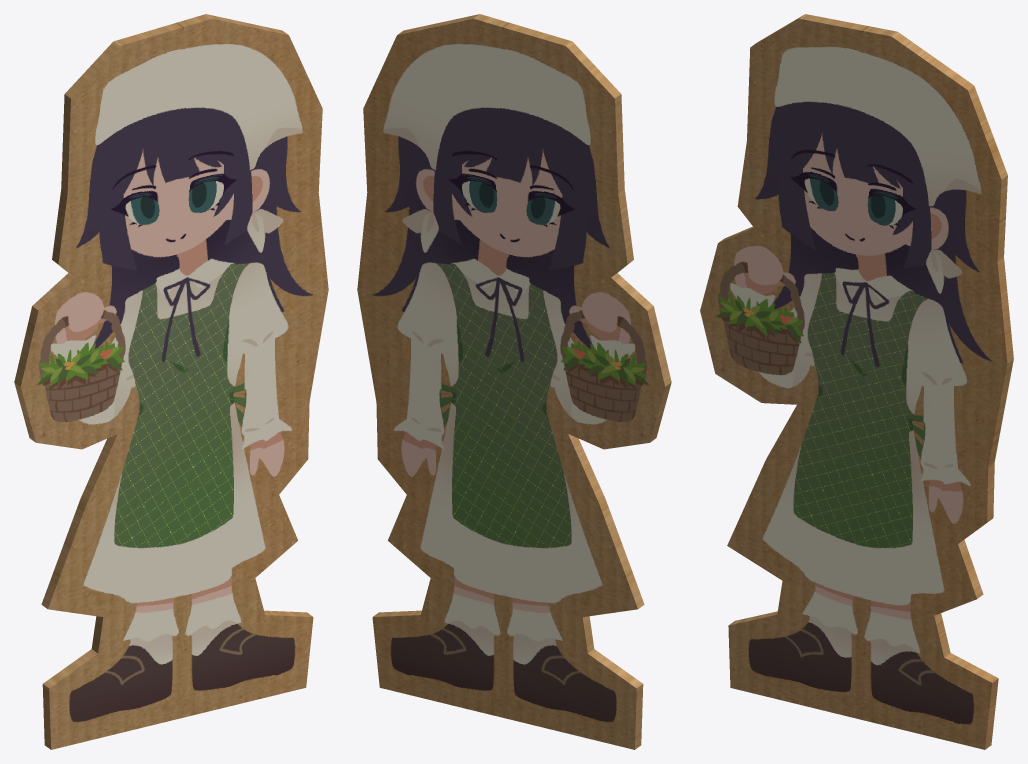
The model's file is NPC_Base_3_Herbalist.glb.
3 views of the same model, side by side, from view 1: azimuth 30°, elevation 25°; view 2: azimuth 150°, elevation 25°; view 3: azimuth 330°, elevation 25° (orthographic).
Parts seen in each view (by area): view 1: NPC_Base_3_Herbalist; view 2: NPC_Base_3_Herbalist; view 3: NPC_Base_3_Herbalist.
Boxes of the visible parts, bbox=[...] form: NPC_Base_3_Herbalist: bbox=[14, 14, 328, 749]; NPC_Base_3_Herbalist: bbox=[357, 14, 671, 749]; NPC_Base_3_Herbalist: bbox=[700, 14, 1013, 749].
Size of the model in its own units: 0.8258 by 1.77 by 0.03.
Materials: 1 (1 with a texture image).
